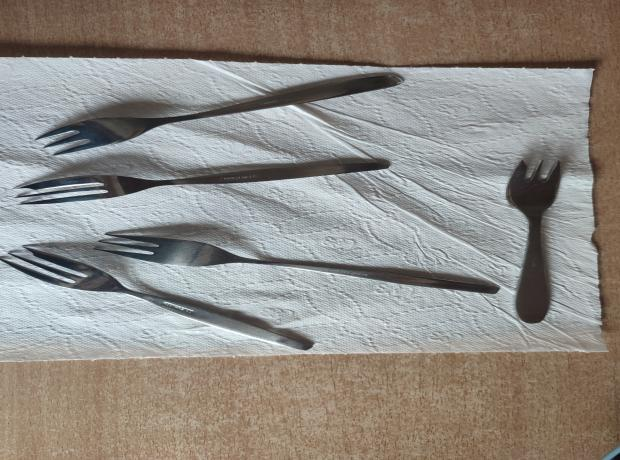metal: (1, 244, 314, 350), (33, 72, 407, 156), (92, 233, 500, 294), (13, 159, 389, 206), (506, 159, 566, 323)
